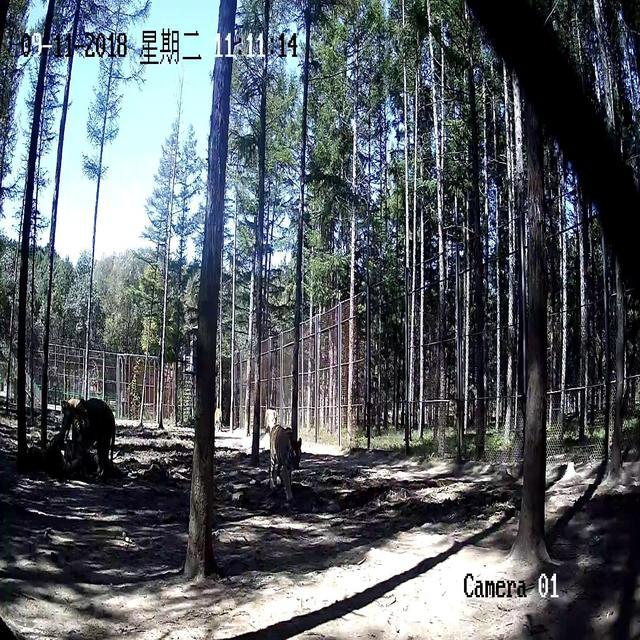tiger: (50, 396, 117, 478), (267, 423, 302, 501)
